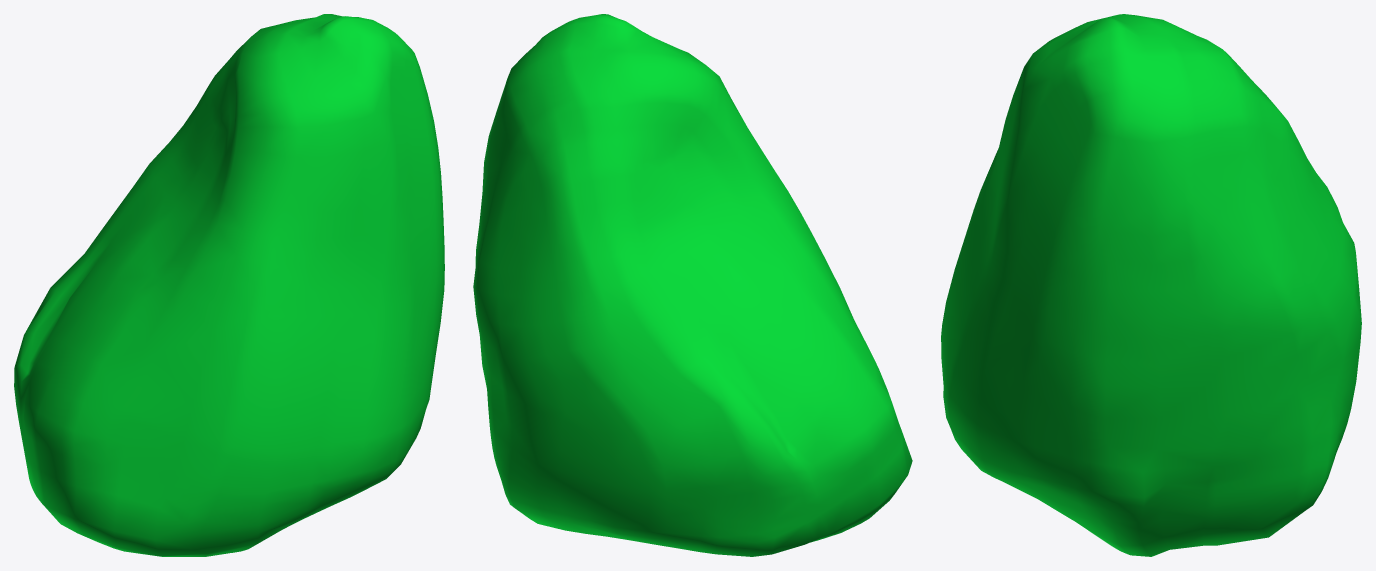
Rendered from Rock.FBX.
The picture shows the model from 3 angles, left to right: view 1: azimuth 30°, elevation 25°; view 2: azimuth 150°, elevation 25°; view 3: azimuth 270°, elevation 25°; orthographic projection. The views are drawn at different scales.
Parts seen in each view (by area): view 1: Rock_3; view 2: Rock_3; view 3: Rock_3.
Boxes of the visible parts, x1=… form: Rock_3: x1=14, y1=14, x2=444, y2=556; Rock_3: x1=473, y1=14, x2=912, y2=556; Rock_3: x1=941, y1=14, x2=1361, y2=556.
Bounding box in the file's own units: 161 × 190 × 138.
